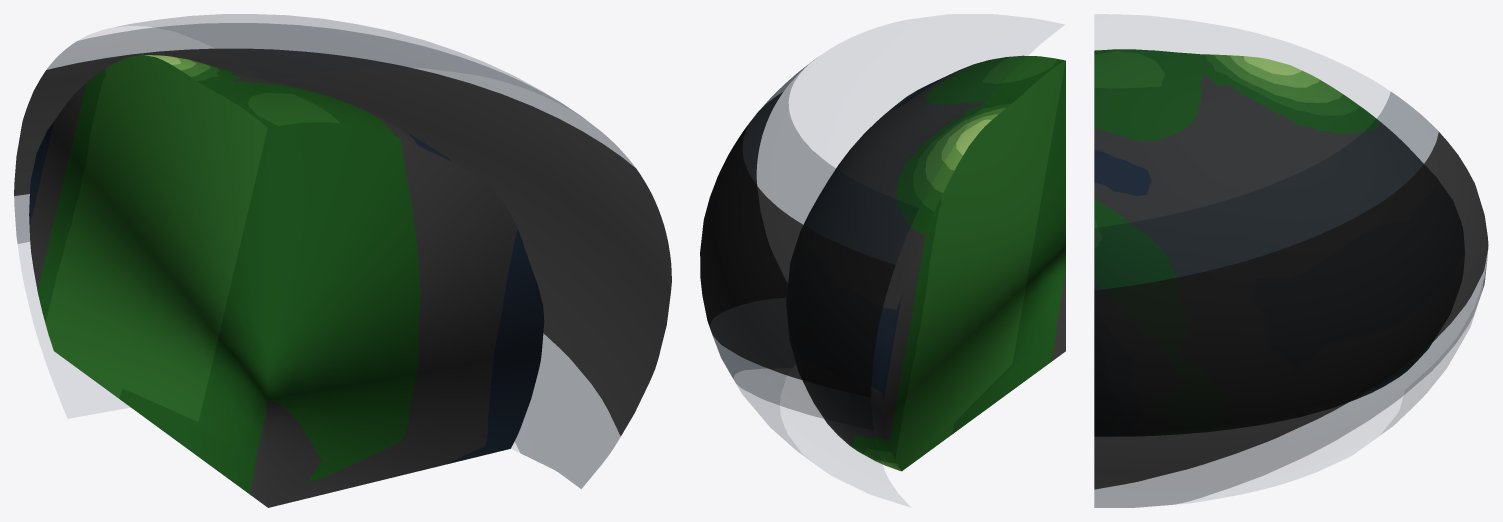
The model's file is glass_globe_tr_235.glb.
3 views of the same model, side by side, from view 1: azimuth 30°, elevation 25°; view 2: azimuth 150°, elevation 25°; view 3: azimuth 270°, elevation 25° (orthographic). The views are drawn at different scales.
Parts seen in each view (by area): view 1: glass_globe_tr; view 2: glass_globe_tr; view 3: glass_globe_tr.
Boxes of the visible parts, x1,y1,x2,y2 form: glass_globe_tr: (14,14,671,507); glass_globe_tr: (700,55,1065,472); glass_globe_tr: (1094,49,1488,507).
Size of the model in its own units: 21.9 by 25.09 by 23.86.
